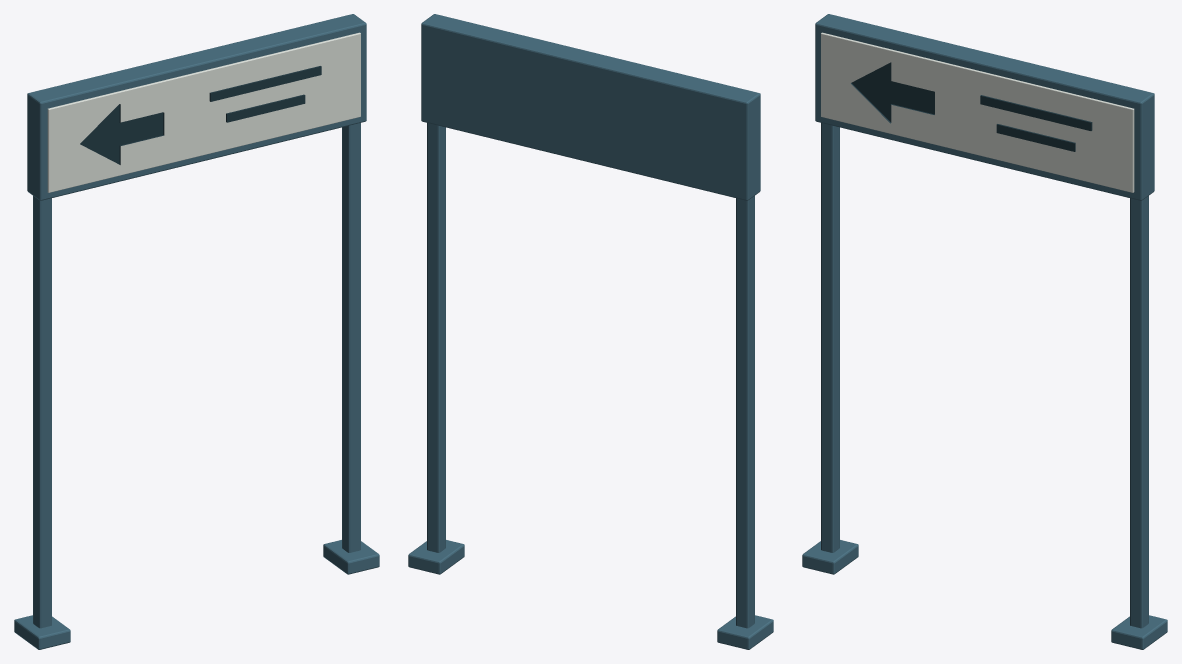
Rendered from station-guidance-sign.lod0.glb.
The picture shows the model from 3 angles, left to right: view 1: azimuth 30°, elevation 25°; view 2: azimuth 150°, elevation 25°; view 3: azimuth 330°, elevation 25°; orthographic projection.
Parts seen in each view (by area): view 1: module-batch-painted-metal, module-batch-sign-face, module-batch-sign-symbol; view 2: module-batch-painted-metal; view 3: module-batch-painted-metal, module-batch-sign-face, module-batch-sign-symbol.
Part boxes in pixels (x1,y1,x2,y2): module-batch-painted-metal: [14, 14, 379, 649]; module-batch-sign-face: [47, 32, 360, 192]; module-batch-sign-symbol: [80, 66, 321, 164]; module-batch-painted-metal: [408, 14, 773, 649]; module-batch-painted-metal: [802, 14, 1167, 649]; module-batch-sign-face: [821, 32, 1134, 192]; module-batch-sign-symbol: [851, 62, 1092, 151].
Bounding box in the file's own units: 1.88 × 2.85 × 0.24.
